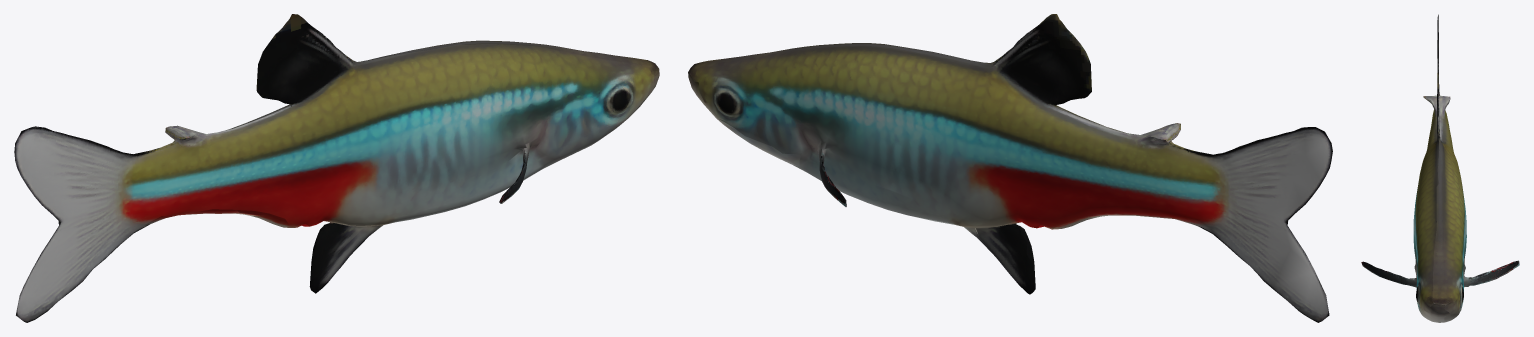
File: neon-tetra.glb
3 renders of one model, left to right at view 1: azimuth 30°, elevation 25°; view 2: azimuth 150°, elevation 25°; view 3: azimuth 270°, elevation 25°, orthographic. The views are drawn at different scales.
Parts seen in each view (by area): view 1: geometry_0; view 2: geometry_0; view 3: geometry_0.
Boxes of the visible parts, <box> form: geometry_0: <box>14,14,659,322</box>; geometry_0: <box>688,14,1332,322</box>; geometry_0: <box>1361,14,1519,322</box>.
Size of the model in its own units: 1 by 0.4265 by 0.2944.
1 material, 1 textured.
